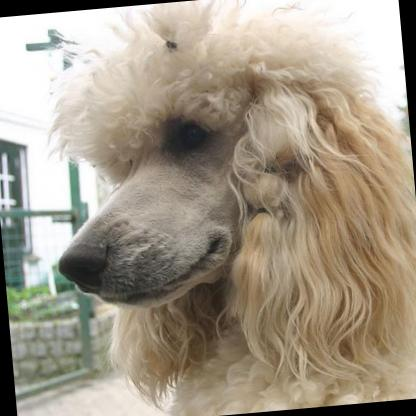standard_poodle: (36, 0, 416, 416)
